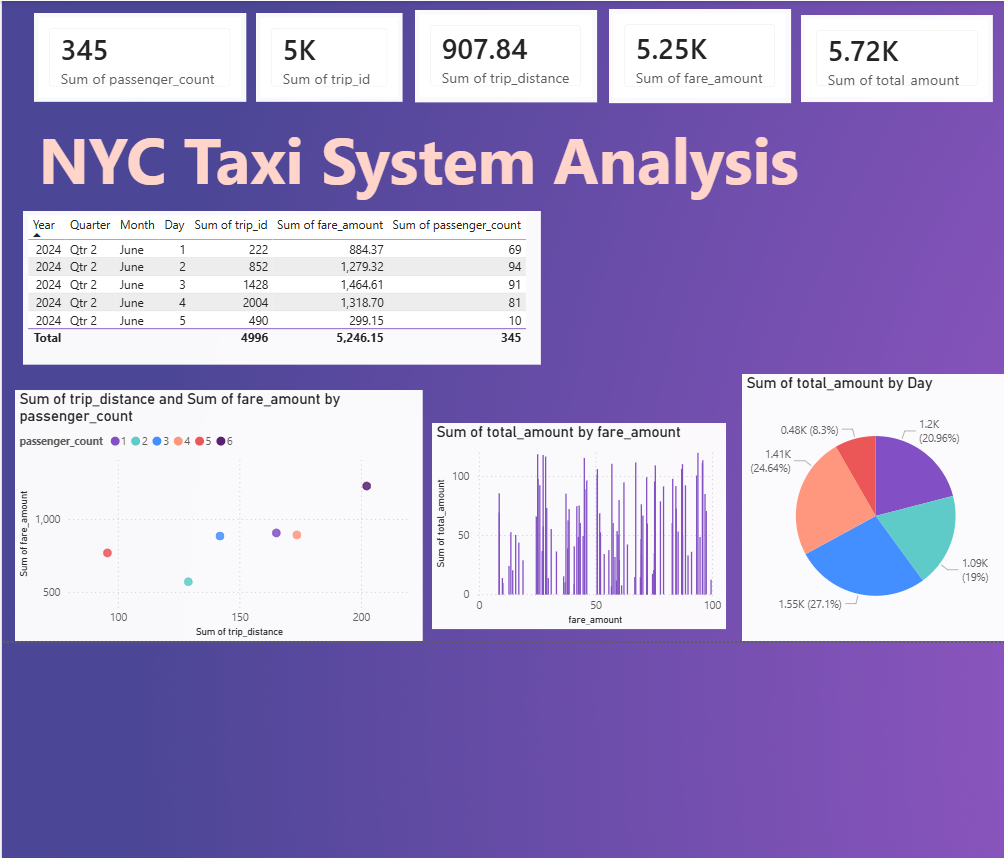

The page's visual inventory and layout, read from the dashboard file:
{"tool":"powerbi","page":{"name":"Page 1","canvas":[1280,720],"ordinal":0},"visuals":[{"type":"pieChart","fields":{"Category":["Table.dropoff_datetime.Variation.Date Hierarchy.Day","Table.pickup_location_id","Table.passenger_count"],"Y":["Sum(Table.total_amount)"]},"box":[833.1,419.9,439.1,300.6],"z":0},{"type":"scatterChart","fields":{"X":["Sum(Table.trip_distance)"],"Y":["Sum(Table.fare_amount)"],"Series":["Table.passenger_count"]},"box":[14.6,437.9,459.3,282.6],"z":1000},{"type":"cardVisual","fields":{"Data":["Sum(Table.trip_id)"]},"box":[285.9,13.5,165.5,100.2],"z":2000},{"type":"cardVisual","fields":{"Data":["Sum(Table.total_amount)"]},"box":[899.5,15.8,216.1,97.9],"z":3000},{"type":"cardVisual","fields":{"Data":["Sum(Table.passenger_count)"]},"box":[36,13.5,238.7,100.2],"z":4000},{"type":"cardVisual","fields":{"Data":["Sum(Table.fare_amount)"]},"box":[683.3,9,204.9,105.8],"z":5000},{"type":"cardVisual","fields":{"Data":["Sum(Table.trip_distance)"]},"box":[464.9,10.1,204.9,103.6],"z":6000},{"type":"card","fields":{"Values":["Max(Table.trip_id)"]},"box":[1138.2,27,116,75.4],"z":7000},{"type":"tableEx","fields":{"Values":["Table.dropoff_datetime.Variation.Date Hierarchy.Year","Table.dropoff_datetime.Variation.Date Hierarchy.Quarter","Table.dropoff_datetime.Variation.Date Hierarchy.Month","Table.dropoff_datetime.Variation.Date Hierarchy.Day","Sum(Table.trip_id)","Sum(Table.fare_amount)","Sum(Table.passenger_count)"]},"box":[23.6,236.4,583.1,173.4],"z":8000},{"type":"columnChart","fields":{"Category":["Table.fare_amount"],"Y":["Sum(Table.total_amount)"]},"box":[484.1,475.1,331,231.9],"z":9000},{"type":"textbox","box":[36,122.7,1244,219.5],"z":10000}]}

Visuals, with their boxes on the page's 1280x720 design canvas (x1, y1, x2, y2). These are canvas units, not pixel positions in the 1004x858 screenshot, which may show the page scaled, cropped or inside an application window:
pieChart - Table.dropoff_datetime.Variation.Date Hierarchy.Day x Table.pickup_location_id: 833:420:1272:720
scatterChart - Sum(Table.trip_distance) x Sum(Table.fare_amount): 15:438:474:720
cardVisual - Sum(Table.trip_id): 286:14:451:114
cardVisual - Sum(Table.total_amount): 900:16:1116:114
cardVisual - Sum(Table.passenger_count): 36:14:275:114
cardVisual - Sum(Table.fare_amount): 683:9:888:115
cardVisual - Sum(Table.trip_distance): 465:10:670:114
card - Max(Table.trip_id): 1138:27:1254:102
tableEx - Table.dropoff_datetime.Variation.Date Hierarchy.Year x Table.dropoff_datetime.Variation.Date Hierarchy.Quarter: 24:236:607:410
columnChart - Table.fare_amount x Sum(Table.total_amount): 484:475:815:707
textbox: 36:123:1280:342
